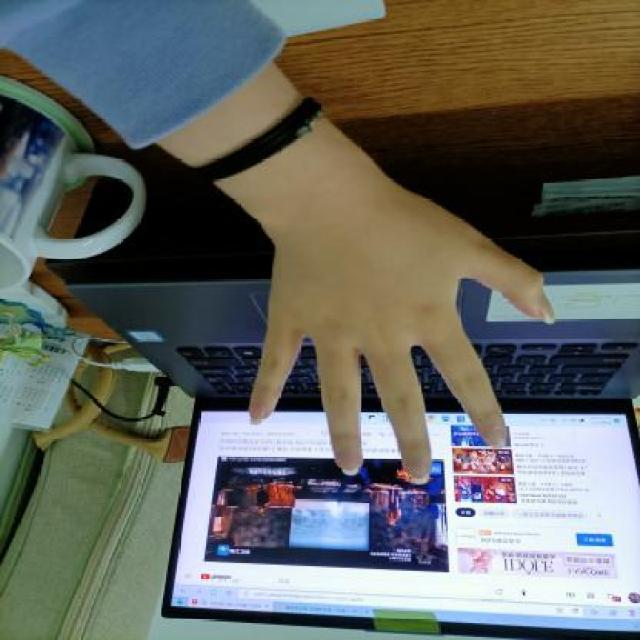bare_hand: (224, 170, 576, 507)
